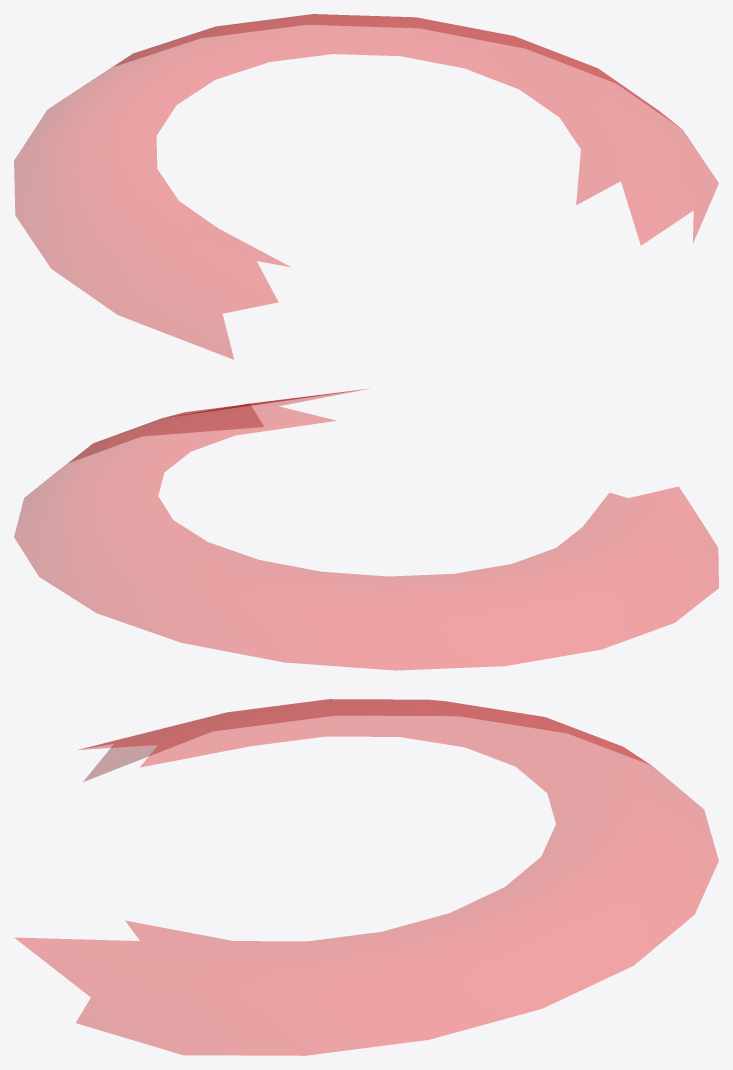
File: Fireslash.fbx
The picture shows the model from 3 angles, top to bottom: view 1: azimuth 30°, elevation 25°; view 2: azimuth 150°, elevation 25°; view 3: azimuth 270°, elevation 25°; orthographic projection. The views are drawn at different scales.
Parts seen in each view (by area): view 1: pTorus1; view 2: pTorus1; view 3: pTorus1.
Boxes of the visible parts, left/top/right/bottom form: pTorus1: left=14, top=14, right=718, bottom=359; pTorus1: left=14, top=389, right=718, bottom=670; pTorus1: left=15, top=699, right=718, bottom=1055.
Size of the model in its own units: 34.12 by 4.83 by 30.09.
